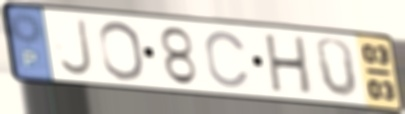0: (314, 36, 361, 101)
8: (157, 25, 199, 87)
C: (202, 28, 253, 91)
H: (263, 32, 315, 98)
J: (57, 16, 97, 79)
O: (96, 19, 148, 83)
